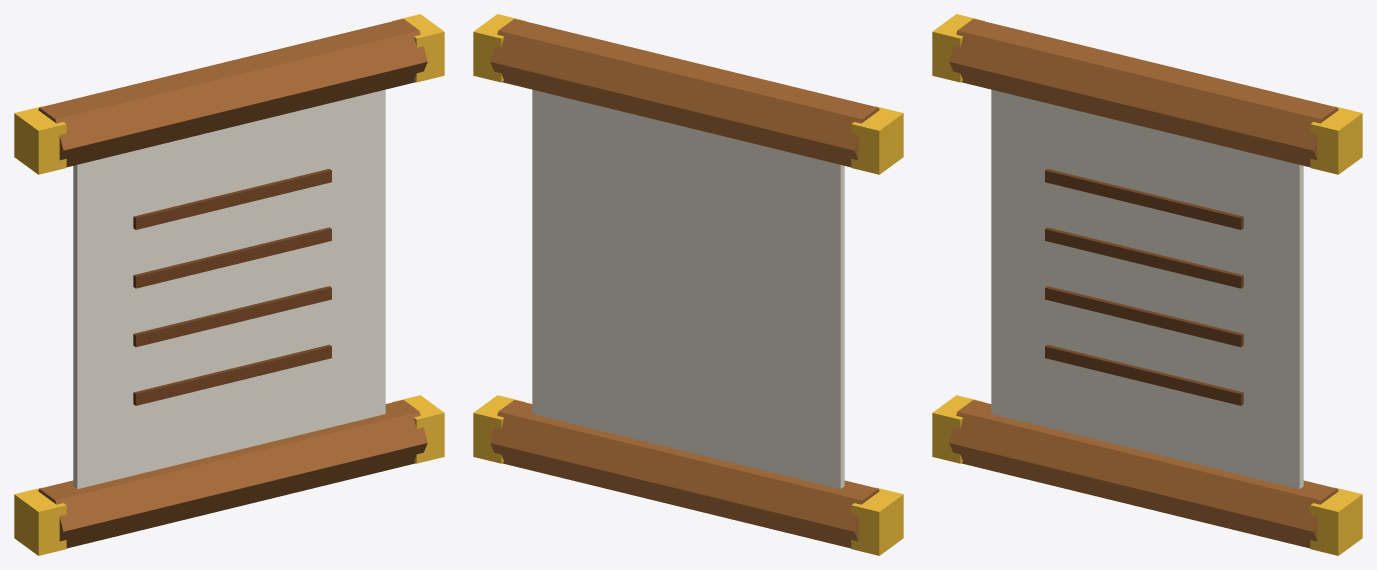
Rendered from Scroll.fbx.
The picture shows the model from 3 angles, left to right: view 1: azimuth 30°, elevation 25°; view 2: azimuth 150°, elevation 25°; view 3: azimuth 330°, elevation 25°; orthographic projection.
Parts seen in each view (by area): view 1: Scroll; view 2: Scroll; view 3: Scroll.
Part boxes in pixels (x1,y1,x2,y2): Scroll: [14, 14, 444, 555]; Scroll: [473, 14, 903, 555]; Scroll: [932, 14, 1362, 555].
Bounding box in the file's own units: 2.9 × 2.95 × 0.4.
Materials: 1 (1 with a texture image).
